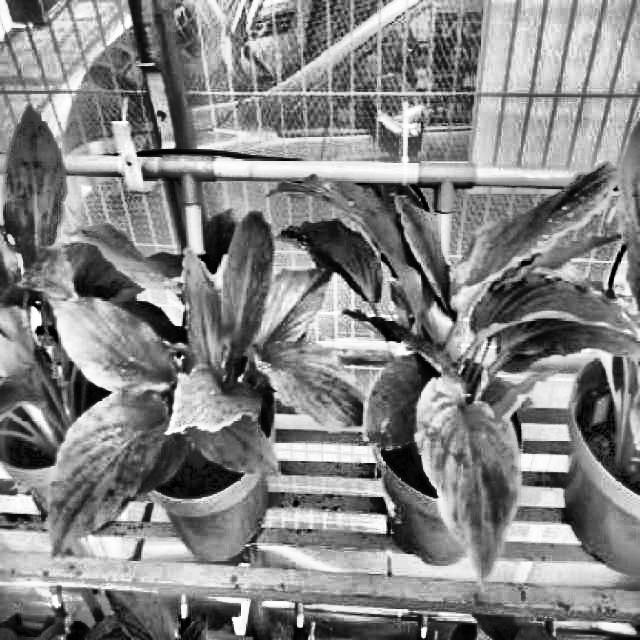plants: (267, 158, 638, 588), (48, 209, 368, 560)
